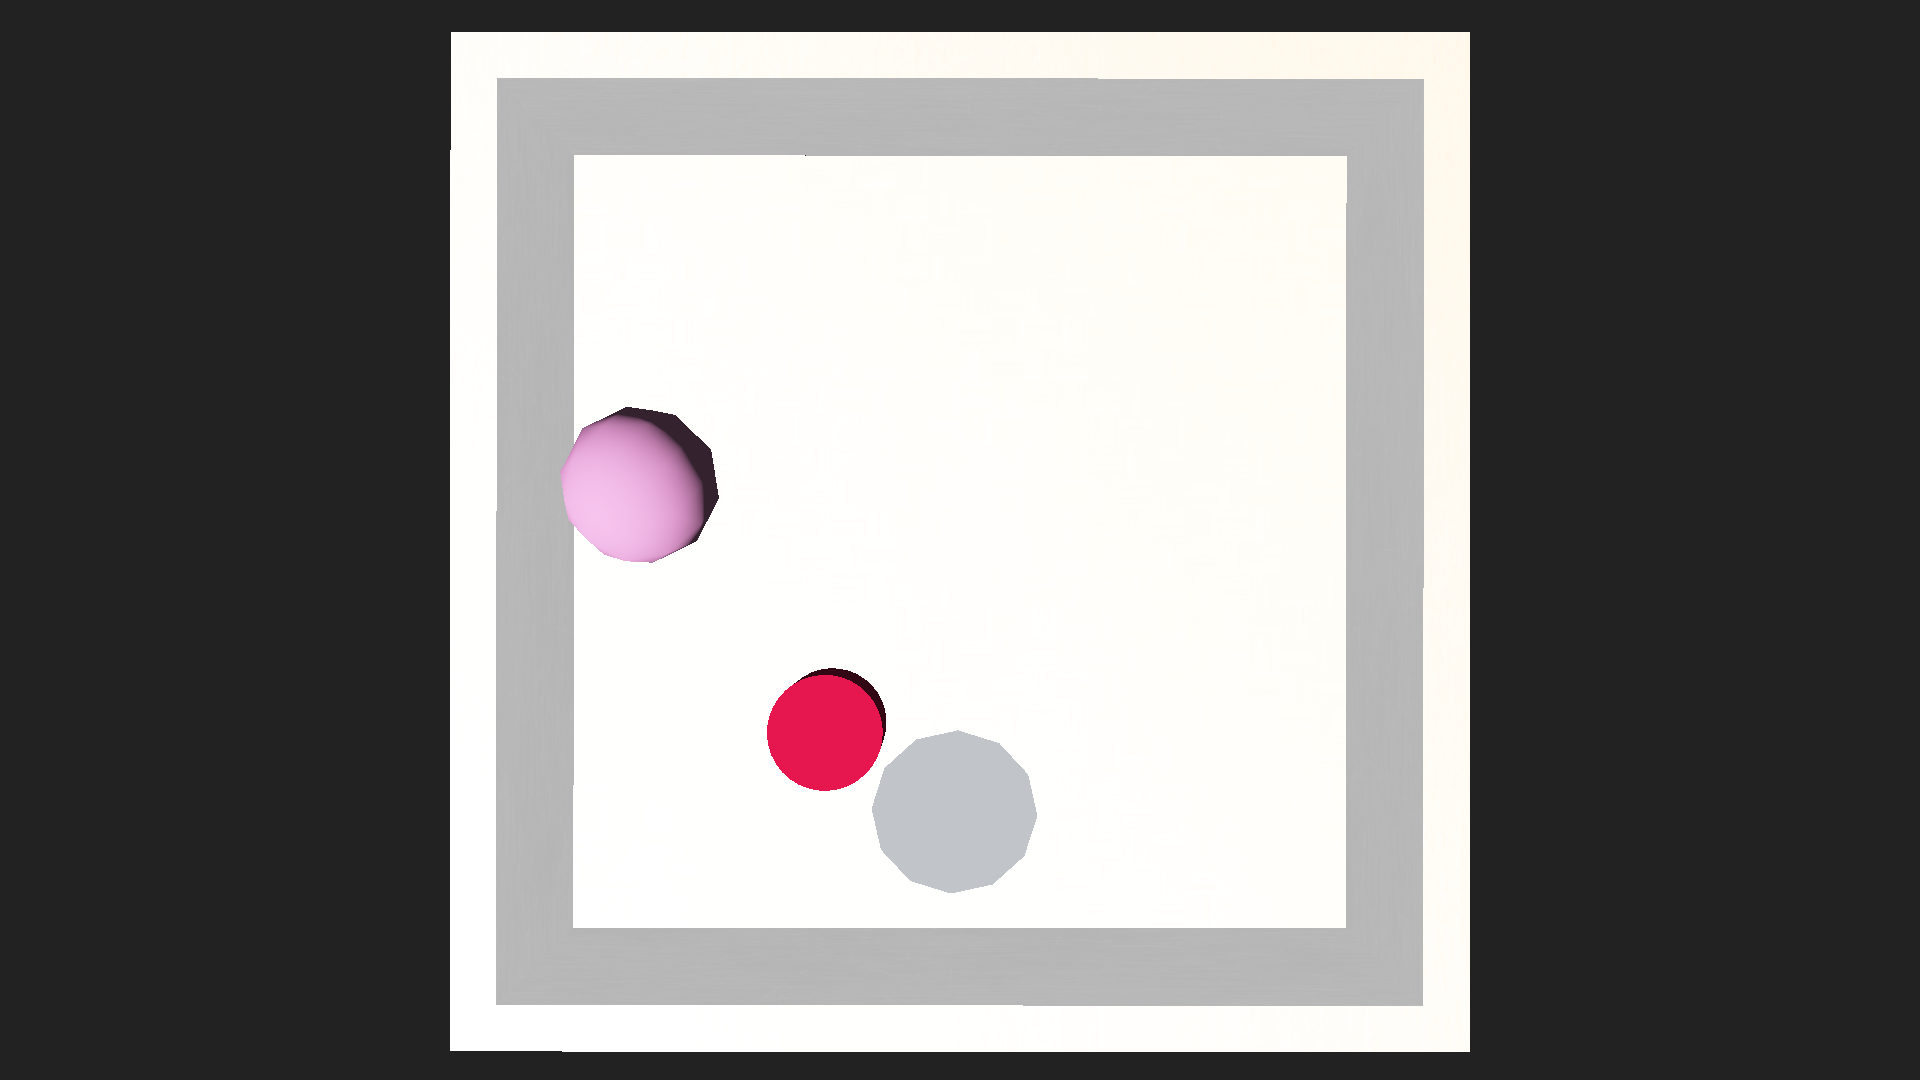cone: (765, 666, 887, 793)
cylinder: (876, 705, 1033, 890)
sphere: (559, 404, 719, 564)
